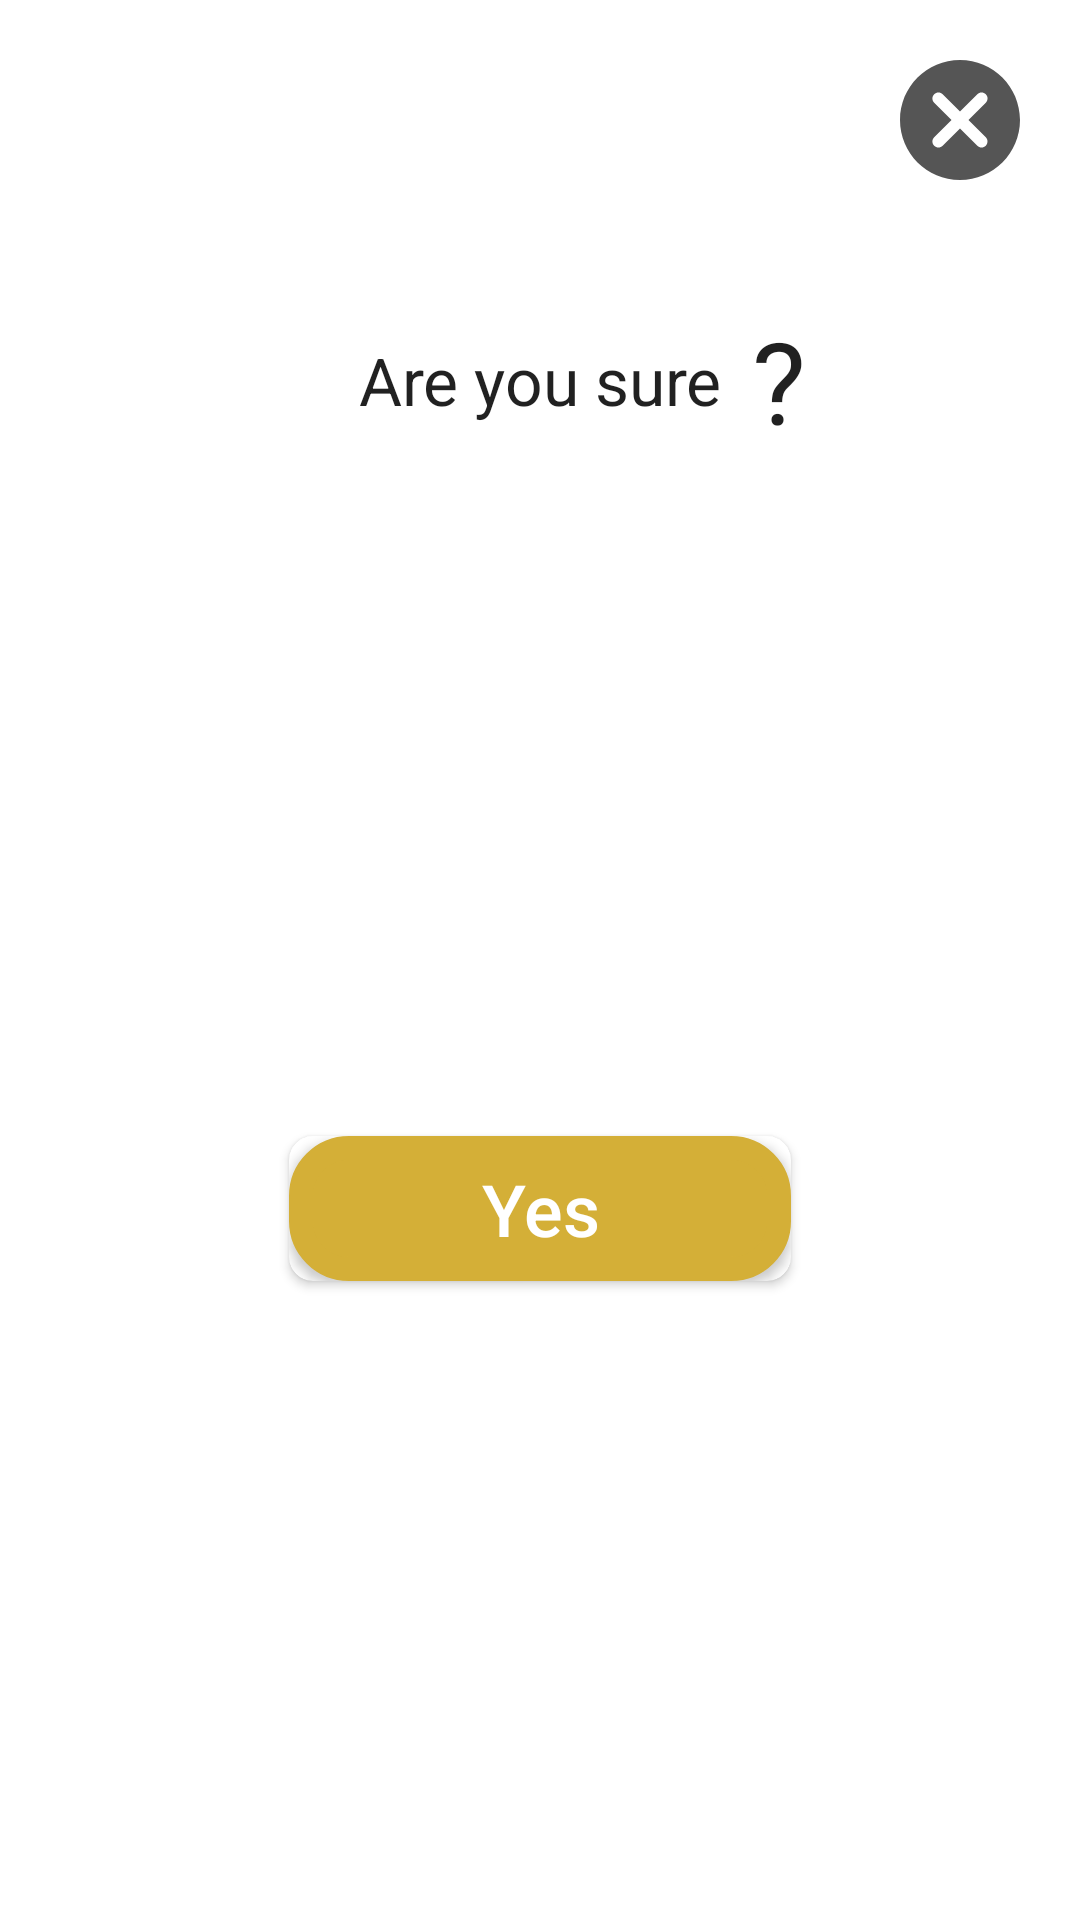

Screen size 1080w x 1920h. Icon name, then its box in pixels as bbox(x1, y1, x2, y2):
cancel icon: bbox(900, 60, 1020, 180)
